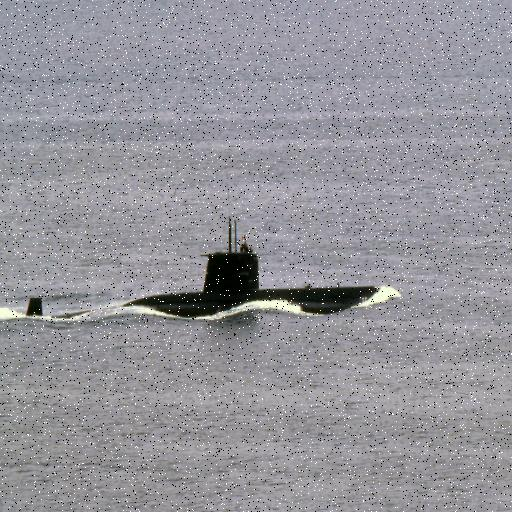submarine: (27, 235, 384, 315)
